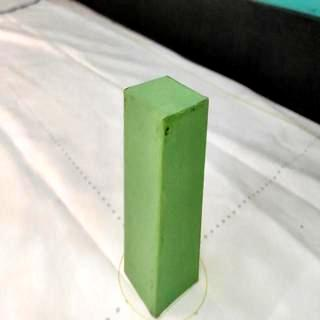greenbox: (122, 73, 210, 320)
